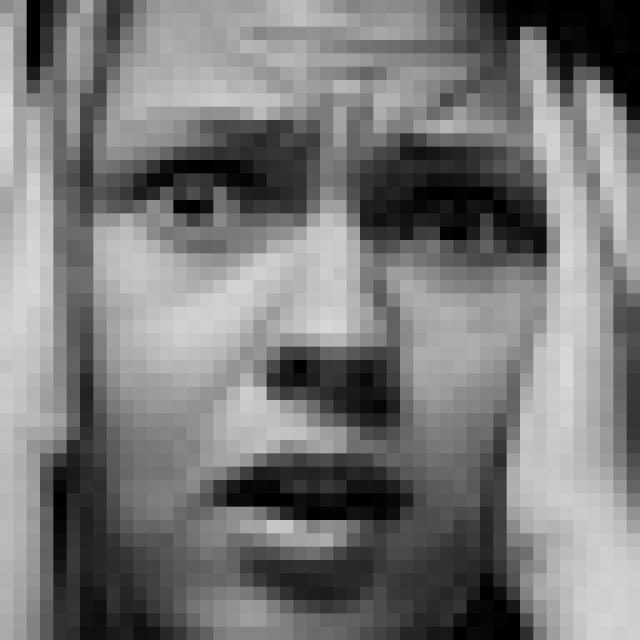fear: (107, 34, 539, 616)
